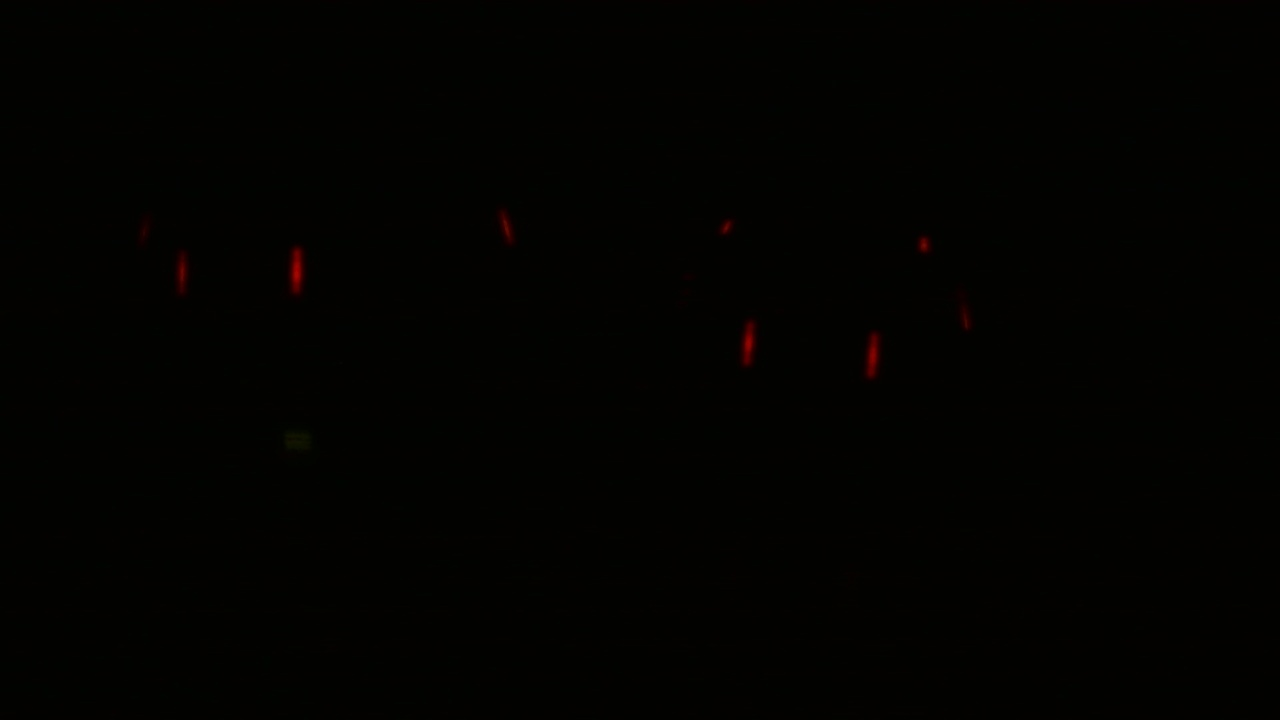pair1: (741, 312, 886, 394), (177, 243, 306, 297)
